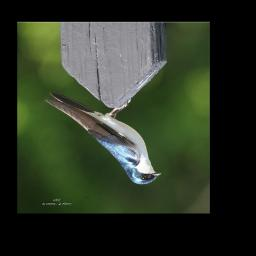Swallow: (44, 91, 162, 185)
